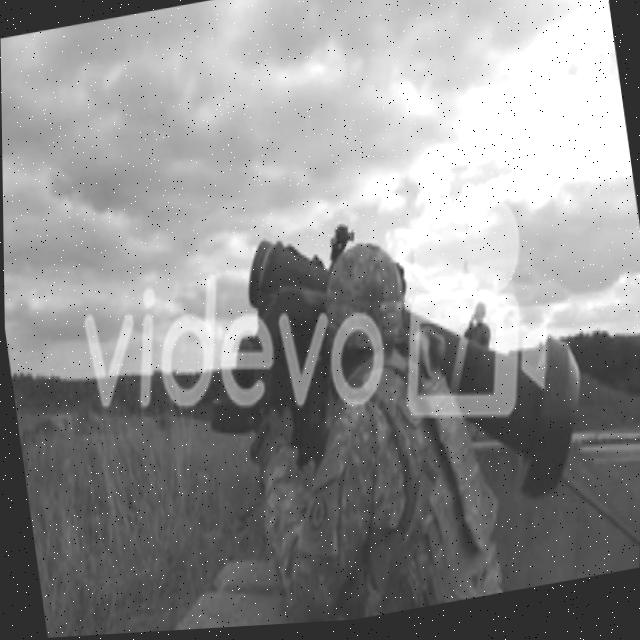rocket: (371, 279, 606, 535)
